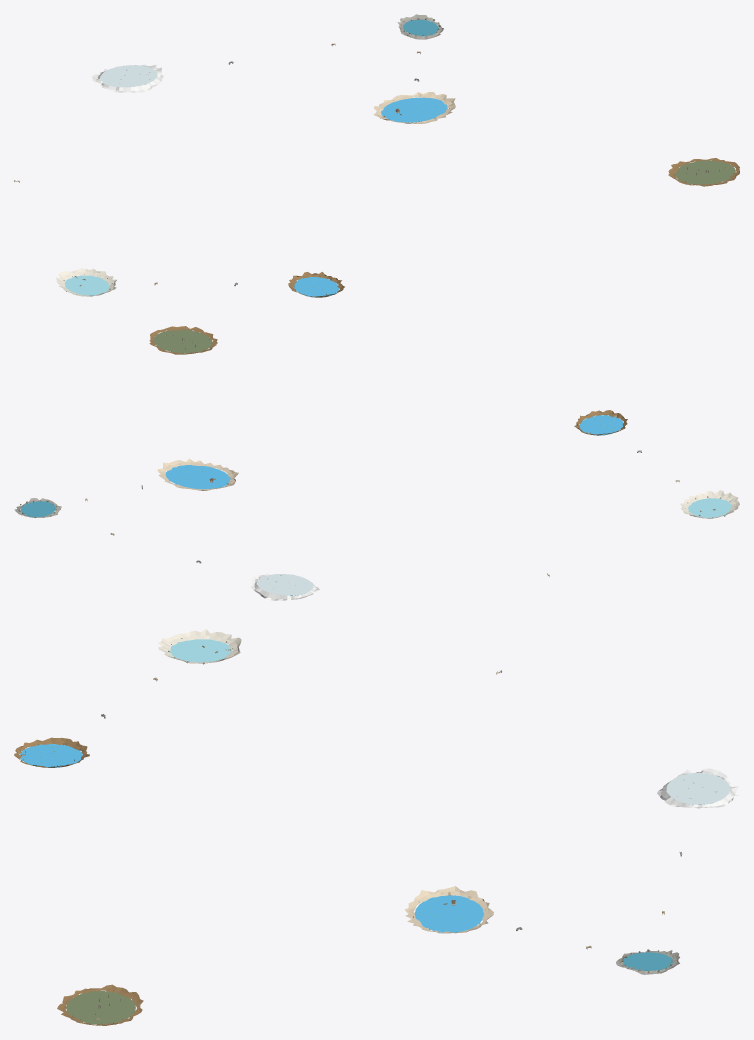
Rendered from lakes.glb.
3 views of the same model, one above another, from view 1: azimuth 30°, elevation 25°; view 2: azimuth 150°, elevation 25°; view 3: azimuth 270°, elevation 25° (orthographic). The views are drawn at different scales.
Visible parts, largest first — view 1: Lakes_WaterCalm, Lakes_WaterSwamp, Lakes_WaterFrozen, Lakes_Shore_Mud, Lakes_Shore_Sand, Lakes_WaterClear, Lakes_Shore_SandWhite, Lakes_Shore_SnowShore, Lakes_WaterMtn; view 2: Lakes_WaterCalm, Lakes_WaterSwamp, Lakes_WaterFrozen, Lakes_Shore_Mud, Lakes_WaterClear, Lakes_Shore_Sand, Lakes_Shore_SandWhite, Lakes_Shore_SnowShore; view 3: Lakes_WaterCalm, Lakes_WaterSwamp, Lakes_WaterFrozen, Lakes_Shore_Mud, Lakes_WaterClear, Lakes_Shore_Sand, Lakes_Shore_SandWhite, Lakes_Shore_SnowShore, Lakes_WaterMtn.
Boxes of the visible parts, x1,y1,x2,y2 form: Lakes_WaterCalm: (294,97,447,297); Lakes_WaterSwamp: (675,160,735,184); Lakes_WaterFrozen: (100,65,157,87); Lakes_Shore_Mud: (288,158,739,297); Lakes_Shore_Sand: (373,92,455,123); Lakes_WaterClear: (64,275,109,295); Lakes_Shore_SandWhite: (56,268,116,296); Lakes_Shore_SnowShore: (92,64,163,92); Lakes_WaterMtn: (403,19,438,35); Lakes_WaterCalm: (165,415,623,489); Lakes_WaterSwamp: (153,330,212,353); Lakes_WaterFrozen: (257,574,313,595); Lakes_Shore_Mud: (149,326,627,435); Lakes_WaterClear: (688,498,731,517); Lakes_Shore_Sand: (157,458,238,490); Lakes_Shore_SandWhite: (679,490,739,518); Lakes_Shore_SnowShore: (250,573,319,600); Lakes_WaterCalm: (20,744,483,932); Lakes_WaterSwamp: (66,991,135,1024); Lakes_WaterFrozen: (666,773,729,804); Lakes_Shore_Mud: (14,737,143,1025); Lakes_WaterClear: (169,639,232,662); Lakes_Shore_Sand: (404,886,493,933); Lakes_Shore_SandWhite: (158,629,241,663); Lakes_Shore_SnowShore: (657,768,739,808); Lakes_WaterMtn: (623,952,673,970).
Size of the model in its own units: 936 by 12.73 by 729.
